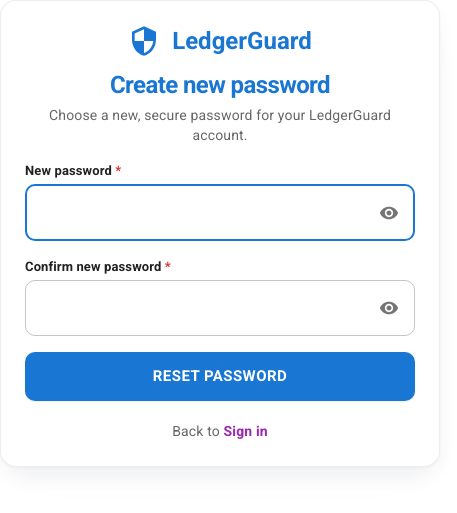
Test case: Password Recovery and Change Flows › ResetPasswordPage › validates password minimum length of 12 characters
The width and height of the screenshot is (457, 513).
Type "short123" into the password field labelled "New password *". click: (196,213)
box: [25,185,366,241]
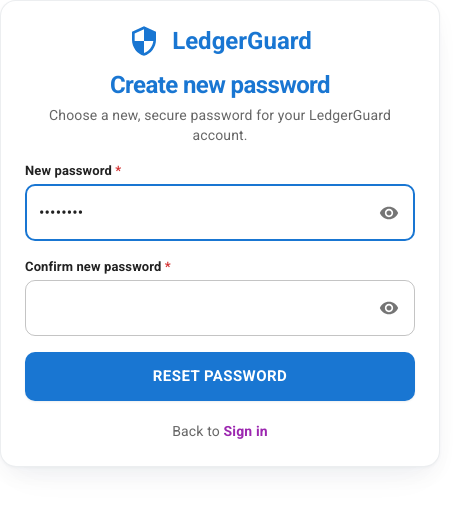
Type "short123" into the password field labelled "Confirm new password *". click: (196,308)
box: [25,280,366,336]
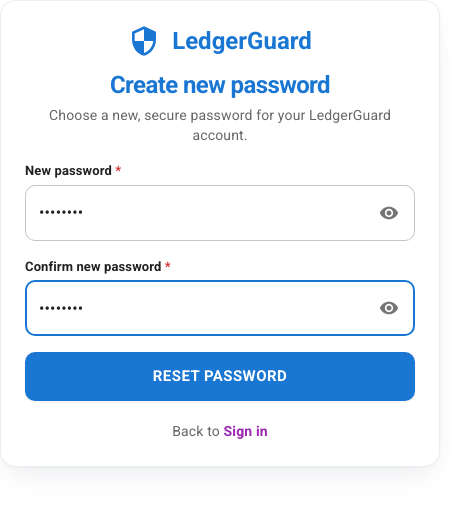
Click the button "Reset password". click: (220,376)
box: [25,352,415,401]
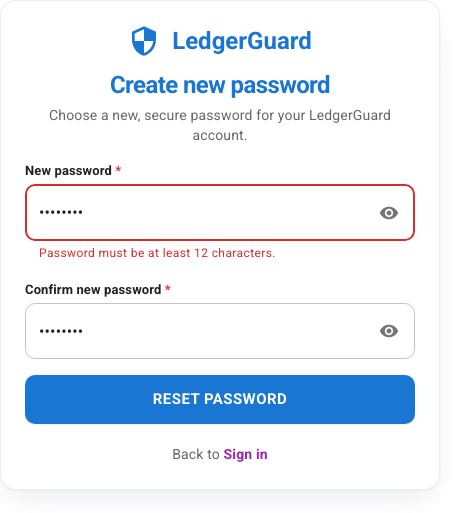
Expected: the text "Password must be at least 12 characters." is shown, [39,246,276,260]
